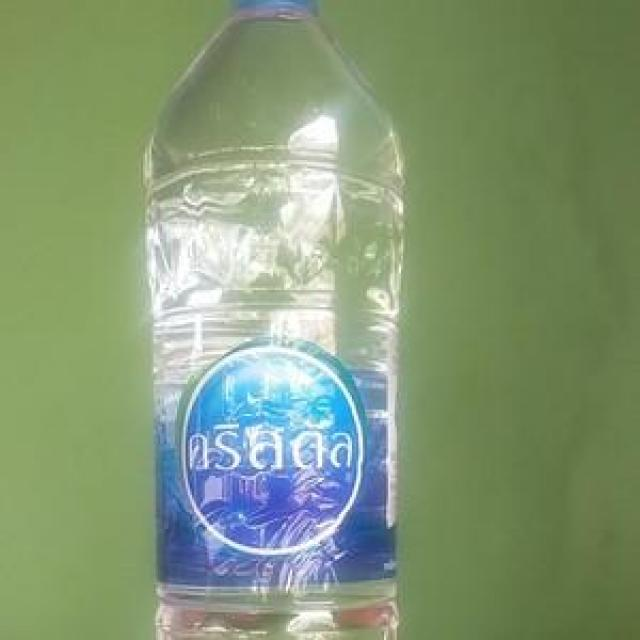bottle: (111, 32, 391, 640)
